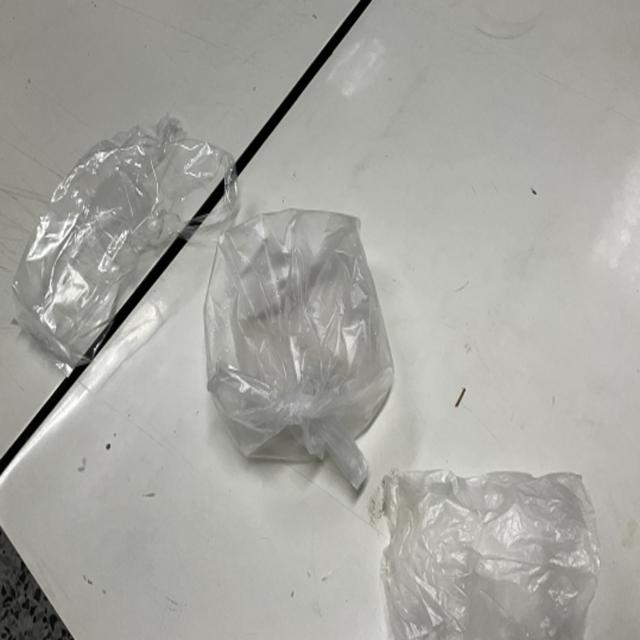Single-layer Plastic: (12, 118, 238, 367), (204, 209, 394, 489), (382, 470, 600, 640)
